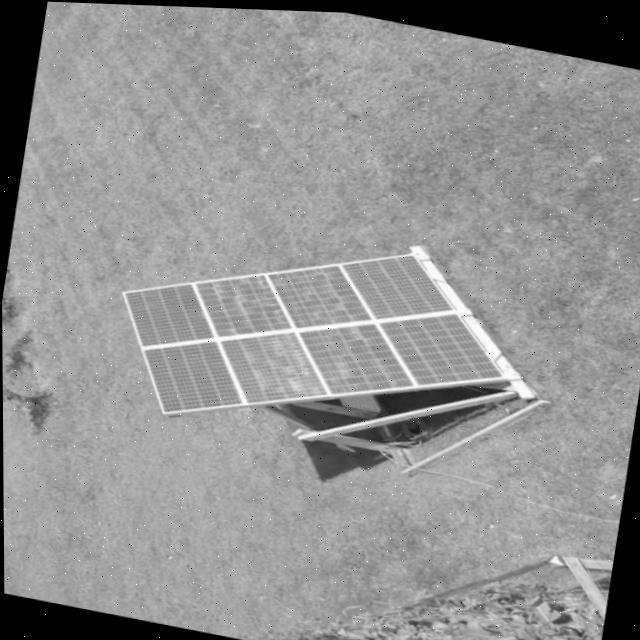Normal Solar Panel: (104, 198, 522, 474)
